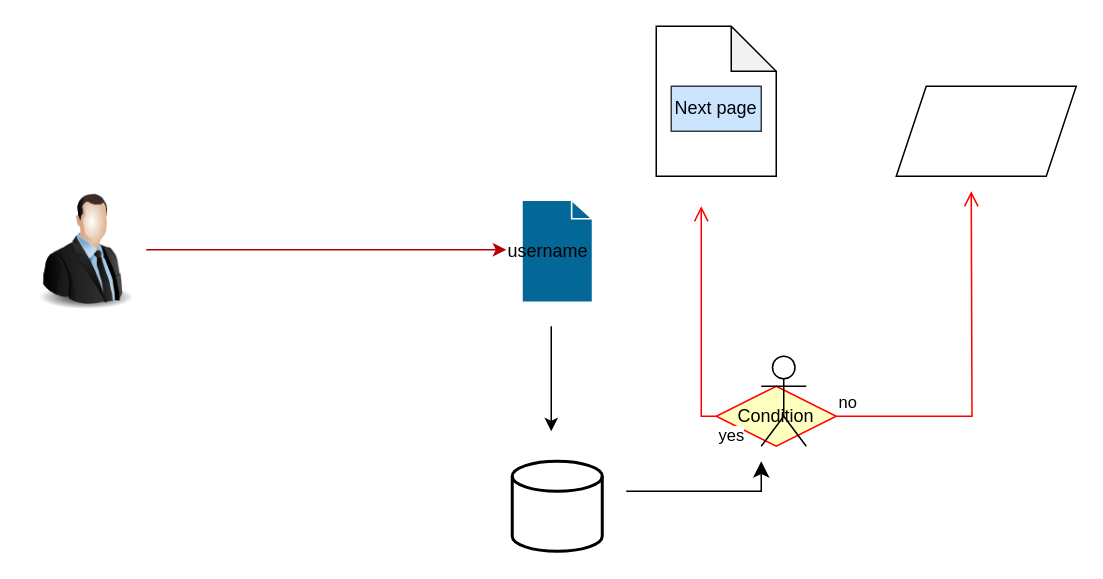
Image size: 1103x579. Some labels were removed from this diagram. The shapes that lost their labels are listed below. From the top down, each one's centre as x and y in pixels, then its label:
At point (985, 130): "ERROR".
At point (783, 400): "Actor".
